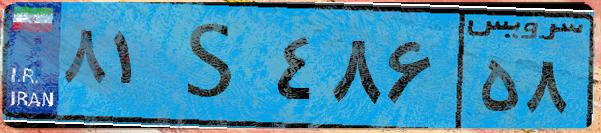1: (110, 28, 158, 98)
4: (270, 28, 330, 110)
5: (475, 38, 525, 113)
6: (385, 28, 445, 110)
8: (330, 28, 385, 110), (57, 26, 110, 100), (525, 38, 570, 115)
S: (158, 12, 270, 120)
